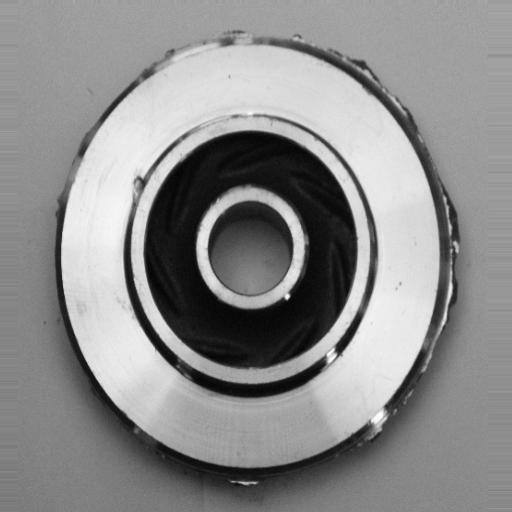casting_with_burr: (49, 25, 462, 490)
crack: (124, 164, 155, 212)
scratch: (178, 100, 282, 138), (315, 333, 351, 388)
